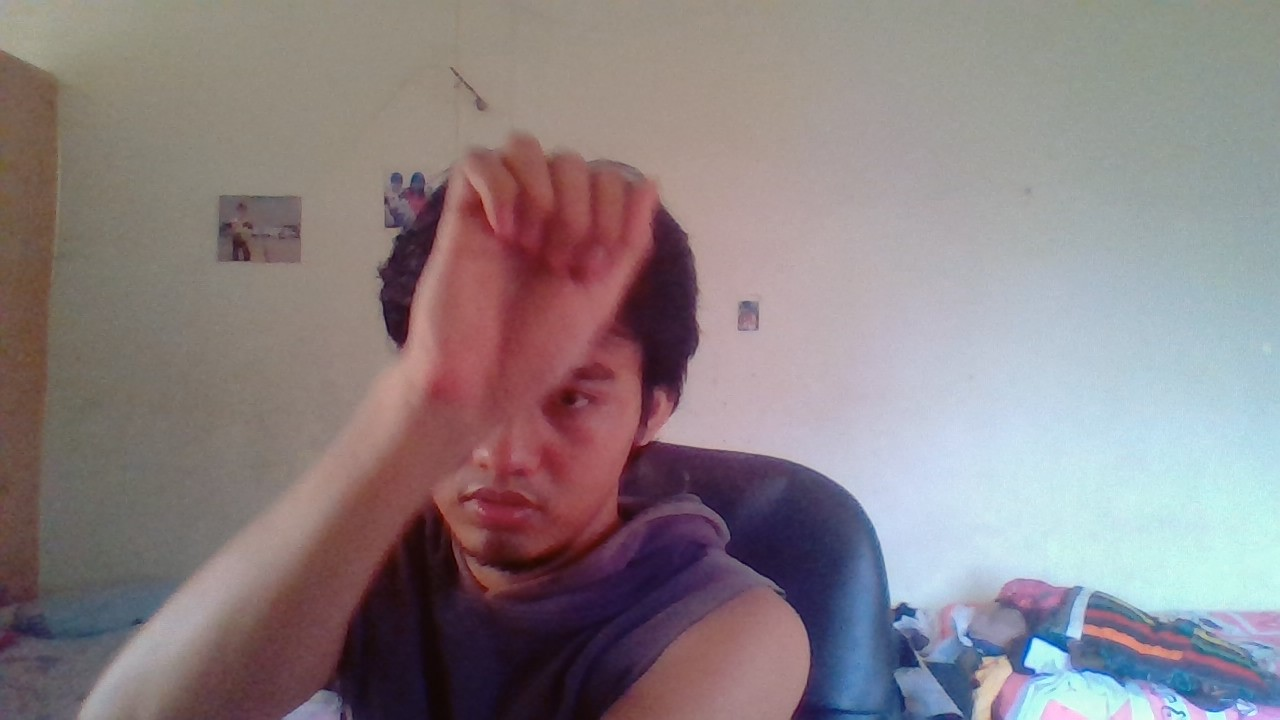A: (372, 129, 678, 436)
